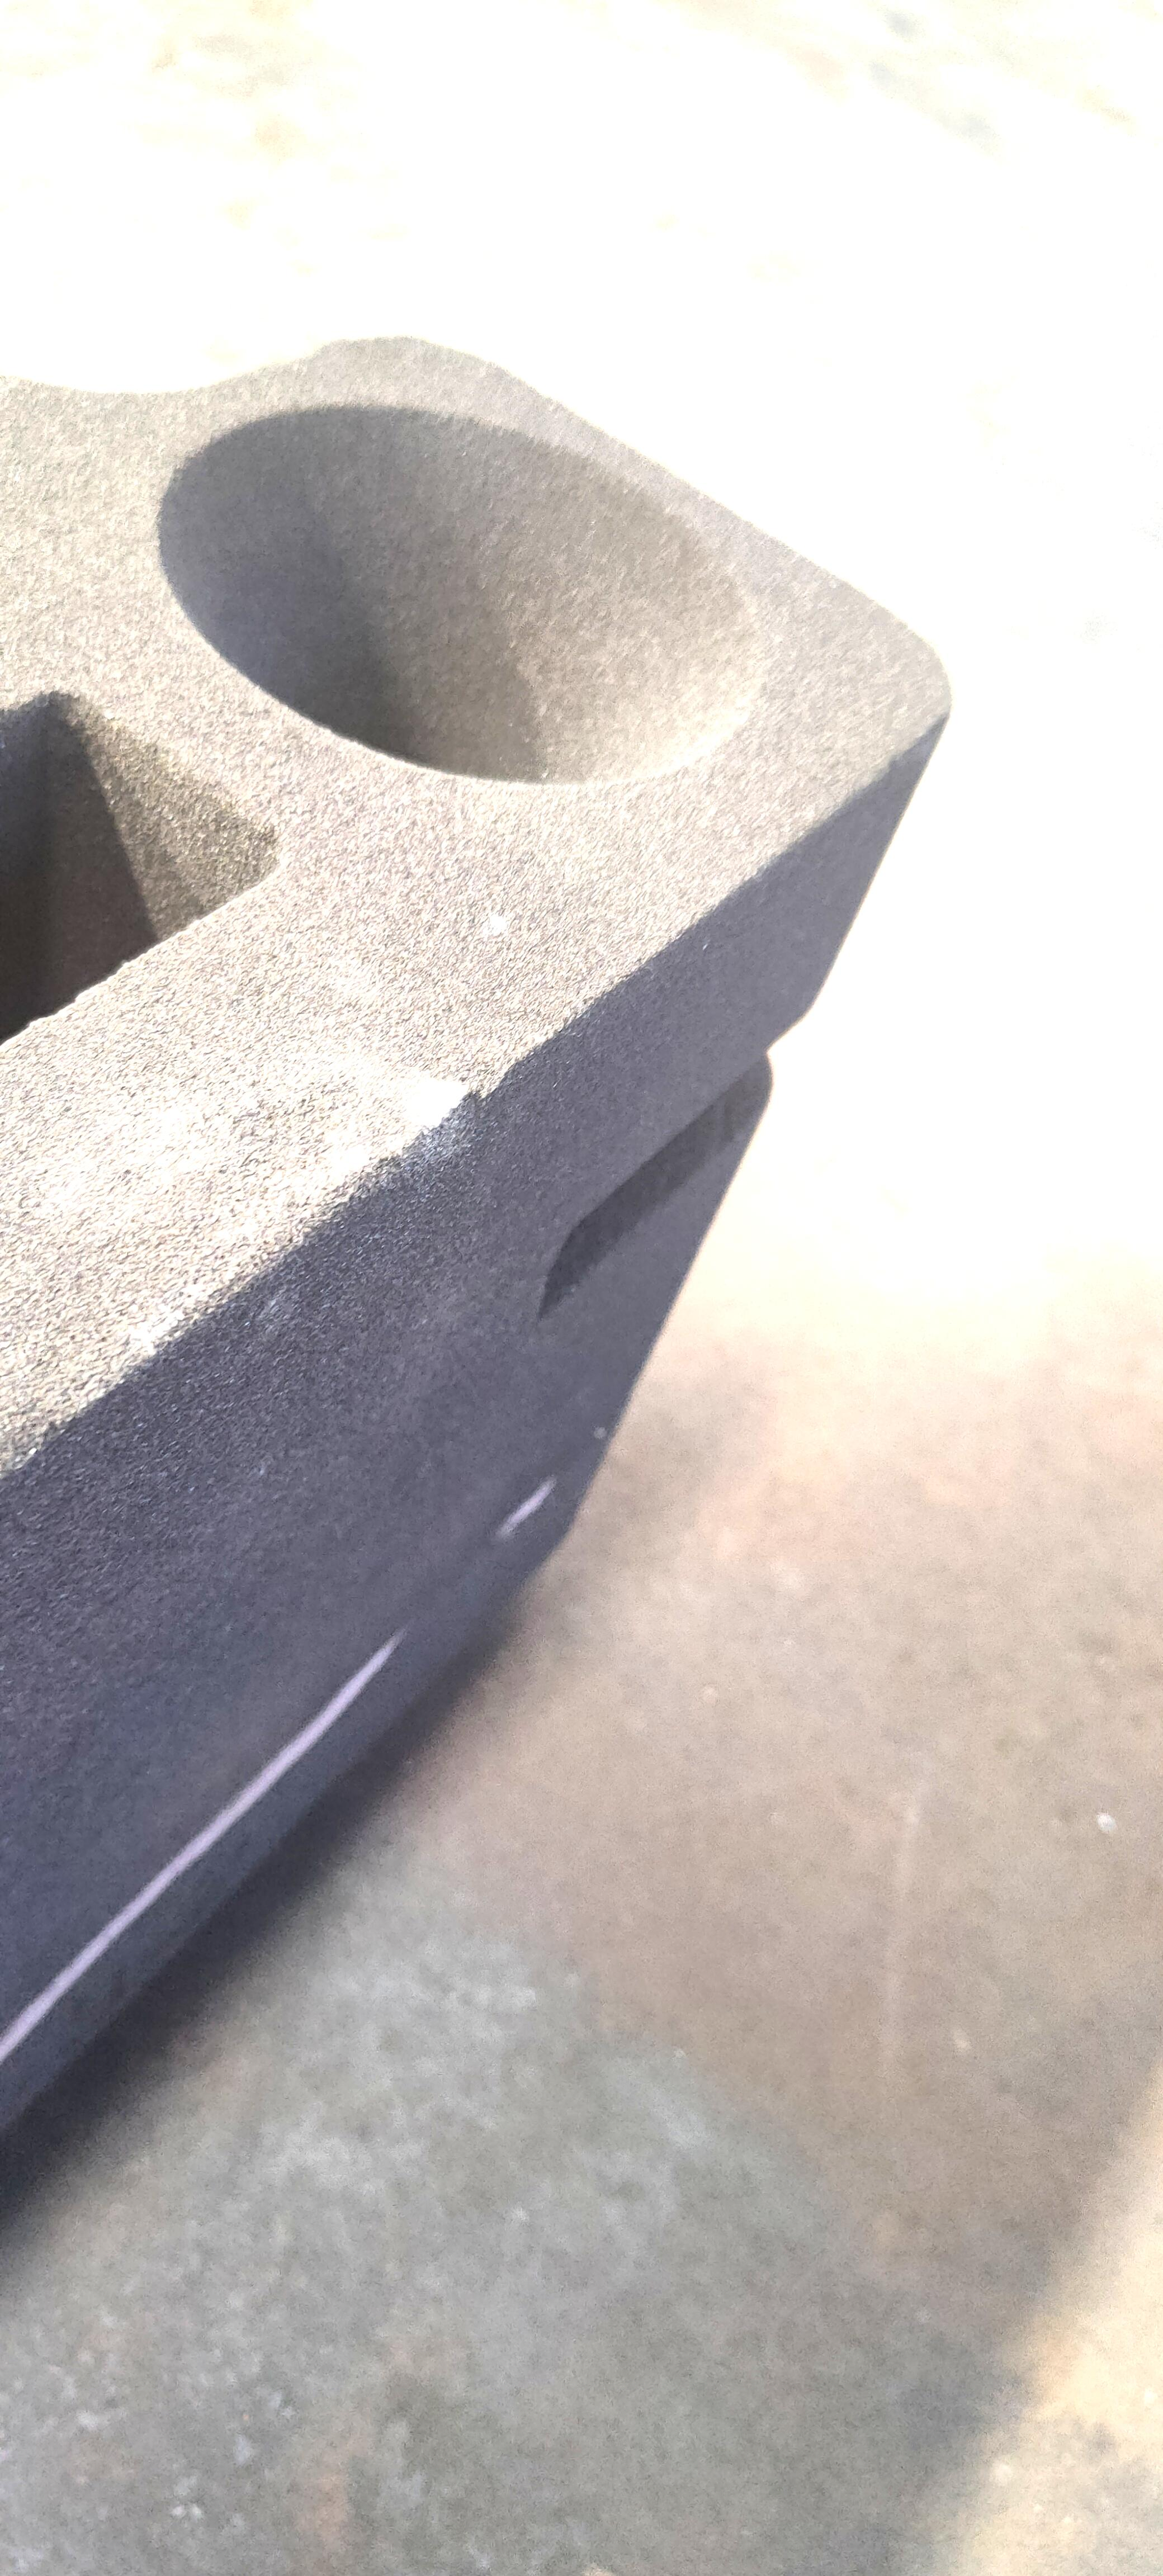pouring hole: (156, 406, 764, 787)
